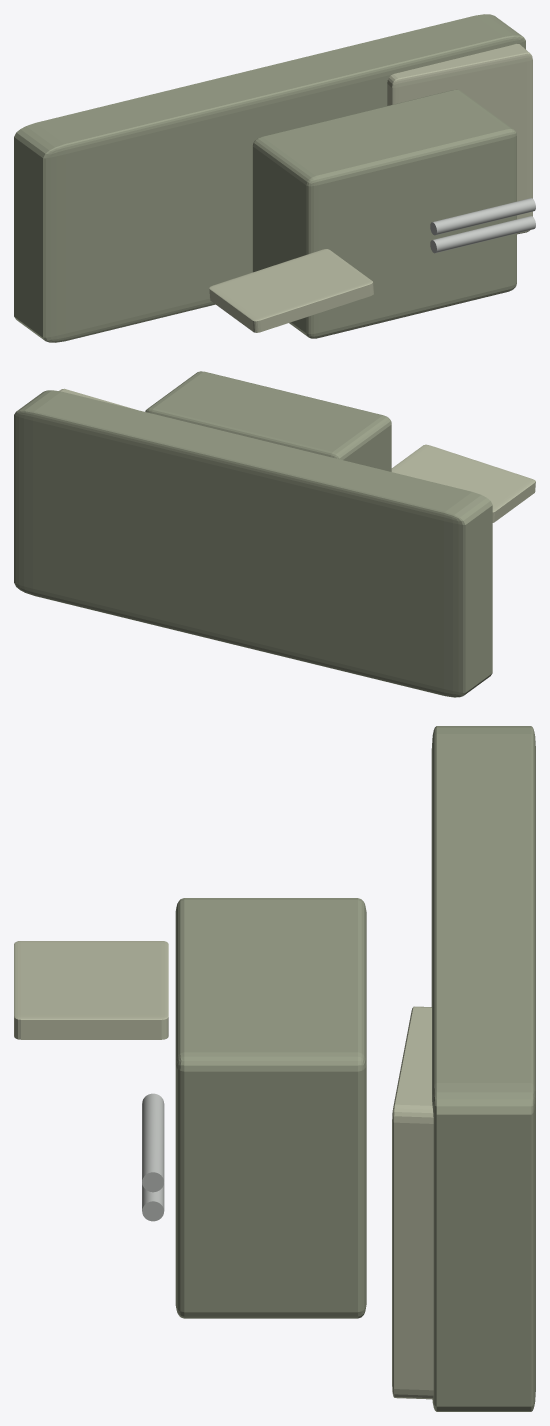
File: v-u11-vanguard-recon-vehicle-lod2.glb
The picture shows the model from 3 angles, top to bottom: view 1: azimuth 30°, elevation 25°; view 2: azimuth 150°, elevation 25°; view 3: azimuth 270°, elevation 25°; orthographic projection. The views are drawn at different scales.
Visible parts, largest first — view 1: chassis_lower, recon_cabin, chassis_nose, recon_sensor_array, recon_gun_barrel_0, recon_gun_barrel_1; view 2: chassis_lower, recon_cabin, recon_sensor_array; view 3: recon_cabin, chassis_lower, recon_sensor_array, chassis_nose, recon_gun_barrel_1.
Part boxes in pixels (bbox=[...]): chassis_lower: bbox=[14, 14, 525, 342]; recon_cabin: bbox=[252, 89, 516, 338]; chassis_nose: bbox=[387, 44, 532, 234]; recon_sensor_array: bbox=[209, 249, 373, 332]; recon_gun_barrel_0: bbox=[430, 216, 535, 253]; recon_gun_barrel_1: bbox=[430, 198, 535, 235]; chassis_lower: bbox=[14, 390, 492, 697]; recon_cabin: bbox=[145, 371, 391, 471]; recon_sensor_array: bbox=[391, 444, 535, 522]; recon_cabin: bbox=[175, 898, 366, 1318]; chassis_lower: bbox=[431, 726, 535, 1411]; recon_sensor_array: bbox=[14, 941, 168, 1039]; chassis_nose: bbox=[392, 1006, 433, 1399]; recon_gun_barrel_1: bbox=[142, 1093, 164, 1192].
Size of what is drawn, in the model's own units: 4.52 by 1.77 by 2.6.
